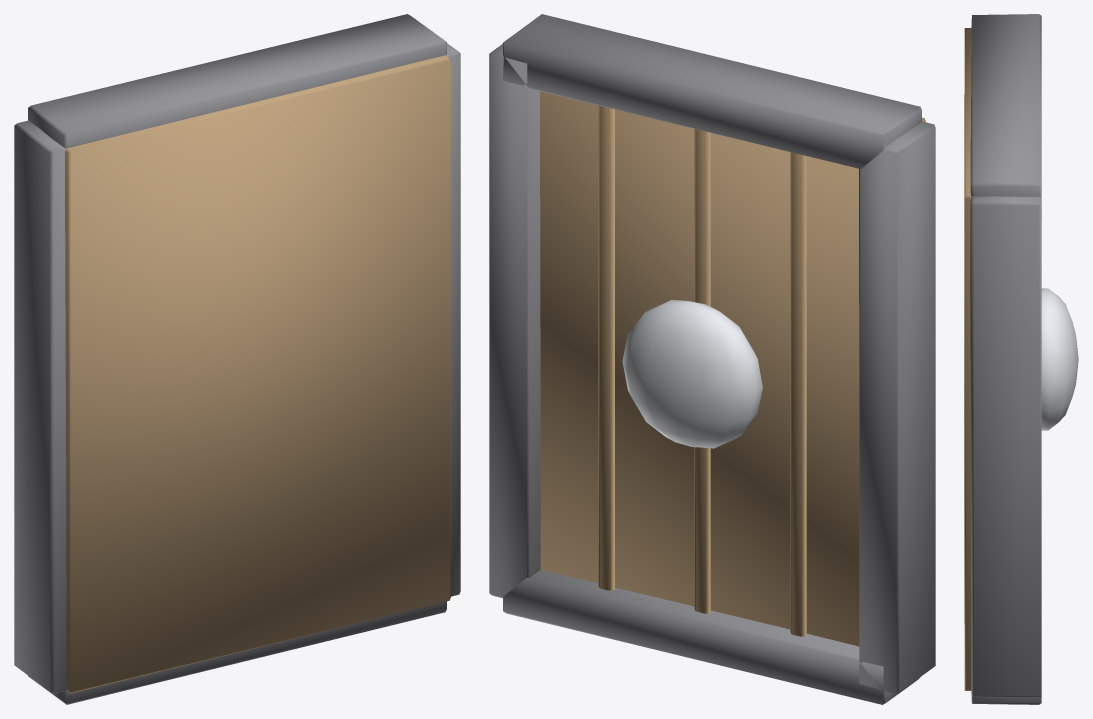
File: item_shield.glb
3 views of the same model, side by side, from view 1: azimuth 30°, elevation 25°; view 2: azimuth 150°, elevation 25°; view 3: azimuth 270°, elevation 25° (orthographic). The views are drawn at different scales.
Visible parts, largest first — view 1: item_shield; view 2: item_shield; view 3: item_shield.
Part boxes in pixels (x1,y1,x2,y2): item_shield: (14,14,460,704); item_shield: (489,14,935,704); item_shield: (964,14,1078,704).
Size of the model in its own units: 0.6 by 0.8 by 0.1587.
